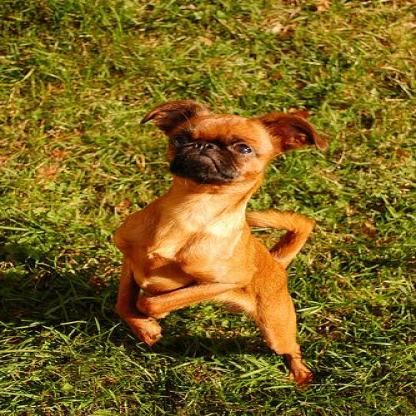Brabancon_griffon: (107, 97, 330, 386)
